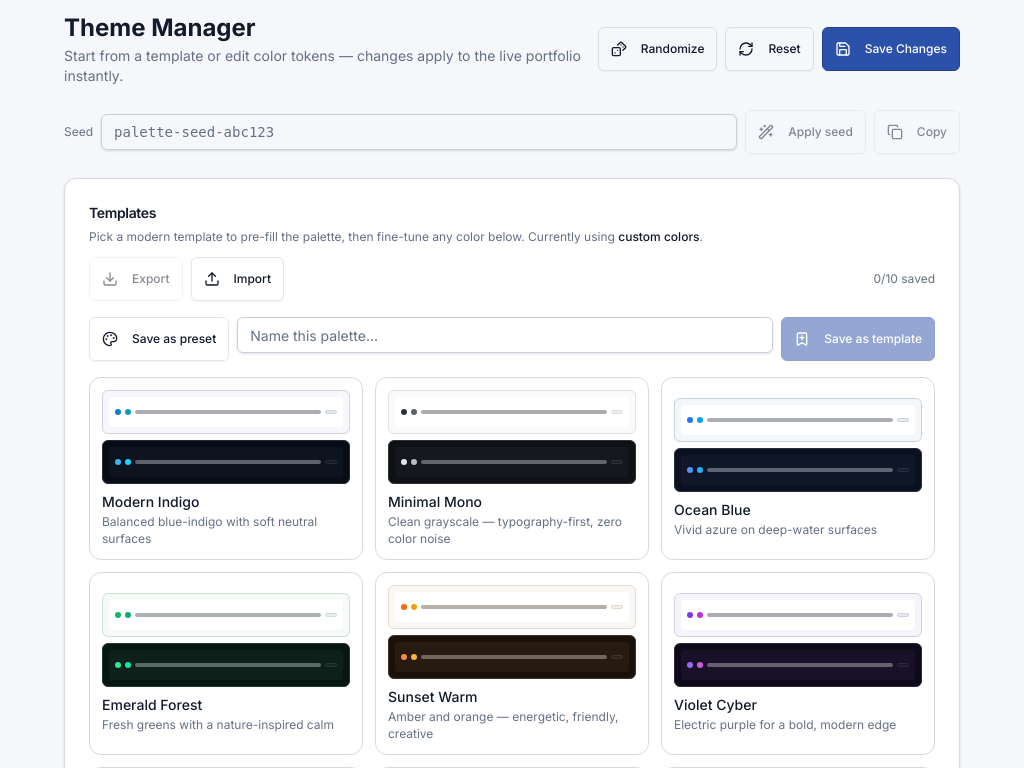
ThemeManager › saves the current palette as a one-click preset with an auto-generated name
The width and height of the screenshot is (1024, 768).
Step 1. Click the button "Save as preset" → (159, 339), box [89,317,229,361]
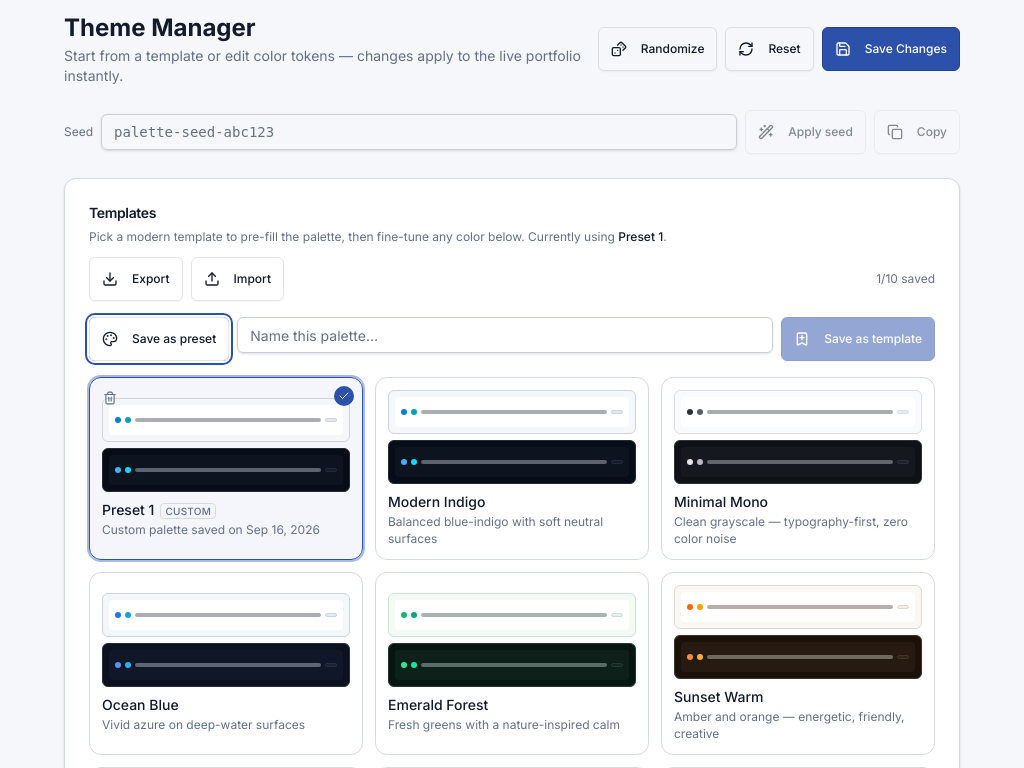
Result: the text "Preset 1" is shown at [618,229,663,244]
